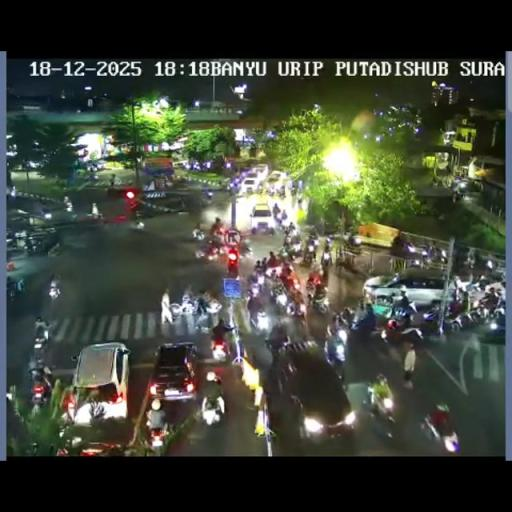Car: (275, 344, 353, 441), (68, 342, 130, 424), (363, 269, 465, 312), (148, 342, 198, 403), (138, 194, 188, 216), (248, 198, 274, 232), (238, 177, 261, 194), (266, 170, 288, 187), (251, 164, 269, 178)
Motorcycle: (245, 248, 339, 337), (421, 406, 459, 451), (361, 395, 395, 440), (264, 344, 290, 394), (28, 359, 52, 405), (410, 306, 444, 337), (477, 309, 504, 344), (200, 390, 225, 426), (324, 330, 346, 370), (384, 306, 413, 334), (347, 314, 378, 340), (194, 238, 224, 264), (246, 292, 266, 330), (208, 329, 230, 361), (307, 284, 329, 314), (278, 238, 302, 264), (60, 388, 77, 424), (270, 280, 290, 310), (193, 302, 213, 332), (31, 334, 50, 365), (478, 289, 502, 313), (284, 293, 306, 319), (445, 295, 467, 320), (147, 422, 167, 449), (51, 436, 77, 455), (178, 292, 200, 314), (34, 316, 51, 339), (250, 262, 266, 286), (24, 238, 43, 256), (475, 272, 495, 289), (280, 260, 296, 280), (238, 236, 253, 257), (338, 306, 352, 328), (265, 260, 282, 278), (10, 232, 27, 250), (47, 240, 64, 257), (408, 250, 424, 268), (302, 246, 315, 268), (205, 370, 222, 386), (88, 210, 106, 225), (431, 245, 446, 263), (48, 279, 61, 299), (321, 246, 332, 269), (200, 188, 214, 206), (191, 226, 206, 242), (6, 278, 18, 298), (168, 301, 182, 318), (210, 225, 226, 239), (130, 216, 145, 230), (452, 274, 463, 292), (347, 233, 361, 247), (402, 240, 416, 254), (283, 222, 296, 236), (466, 250, 476, 268), (452, 188, 463, 202), (227, 229, 238, 243), (228, 184, 238, 198), (110, 175, 122, 186), (85, 170, 98, 180), (273, 210, 282, 224), (484, 258, 493, 270), (17, 278, 25, 291), (64, 201, 73, 212), (326, 234, 334, 246), (421, 248, 429, 259), (296, 195, 302, 209), (10, 186, 15, 197)
